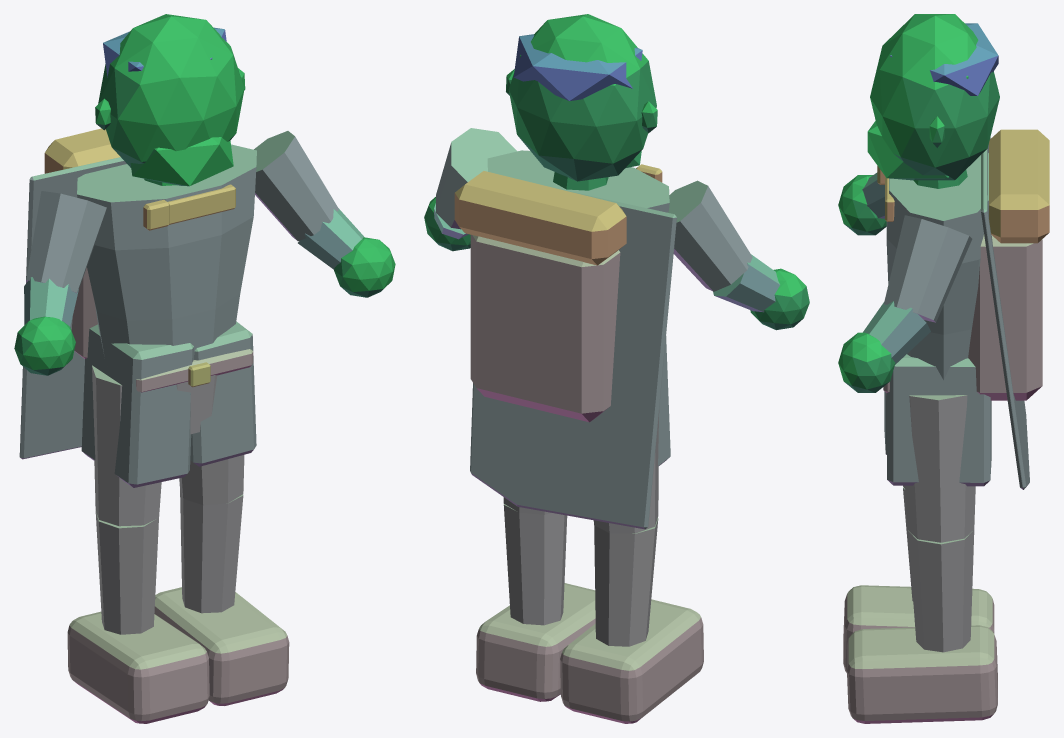
File: npc_traveller_react_v01.glb
3 renders of one model, left to right at view 1: azimuth 30°, elevation 25°; view 2: azimuth 150°, elevation 25°; view 3: azimuth 270°, elevation 25°, orthographic.
Visible parts, largest first — view 1: GEO_npc_traveller_react_v01; view 2: GEO_npc_traveller_react_v01; view 3: GEO_npc_traveller_react_v01.
Boxes of the visible parts, x1,y1,x2,y2 form: GEO_npc_traveller_react_v01: (14, 14, 395, 723); GEO_npc_traveller_react_v01: (424, 14, 809, 723); GEO_npc_traveller_react_v01: (838, 14, 1049, 723).
Bounding box in the file's own units: 1.21 × 2.07 × 0.59.
